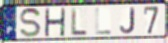7: (143, 6, 160, 35)
H: (43, 7, 67, 37)
J: (119, 7, 136, 35)
L: (70, 7, 88, 37), (95, 7, 112, 36)
S: (19, 7, 42, 39)
